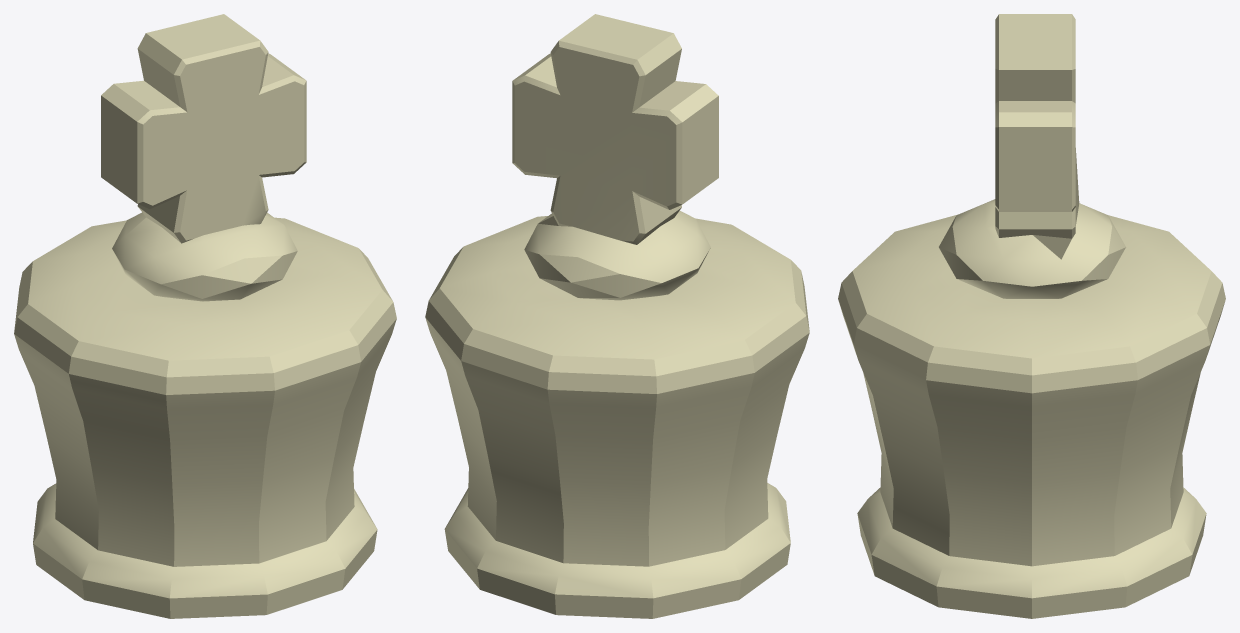
The model's file is king_01.glb.
3 views of the same model, side by side, from view 1: azimuth 30°, elevation 25°; view 2: azimuth 150°, elevation 25°; view 3: azimuth 270°, elevation 25° (orthographic).
Visible parts, largest first — view 1: king_01; view 2: king_01; view 3: king_01.
Part boxes in pixels (x1,y1,x2,y2): king_01: [14, 14, 396, 618]; king_01: [425, 14, 809, 618]; king_01: [838, 14, 1225, 618].
Bounding box in the file's own units: 0.4937 × 0.7286 × 0.4988.
